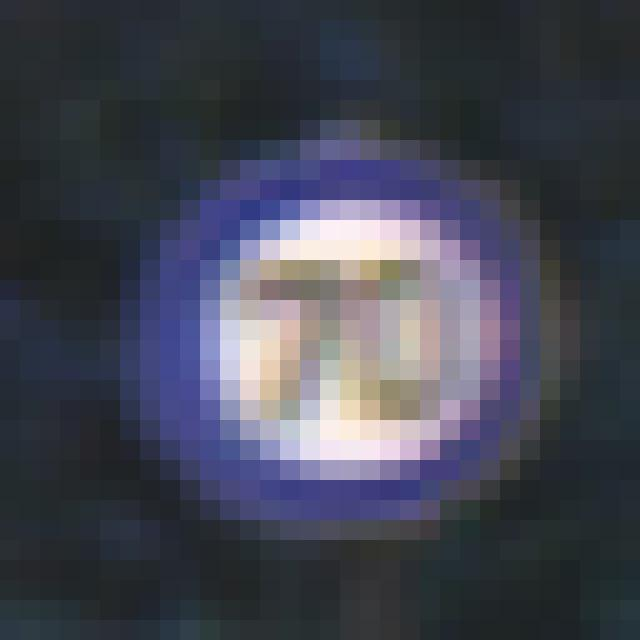SPEED LIMIT 70: (123, 153, 533, 563)
